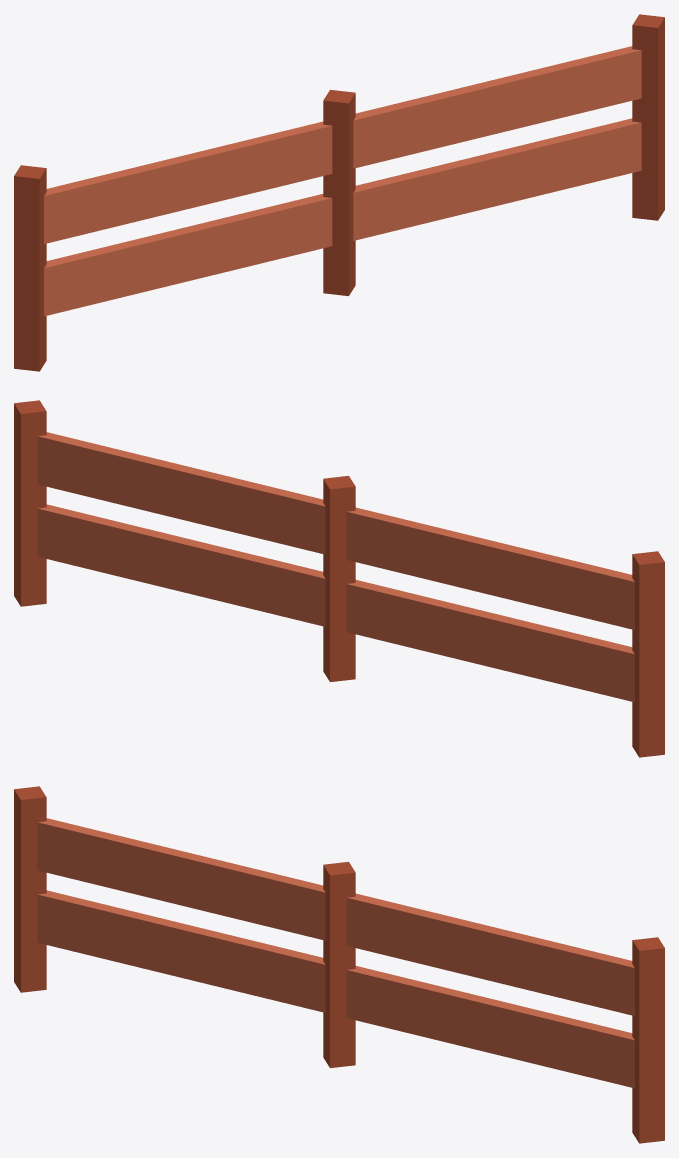
The model's file is Fence.fbx.
3 views of the same model, one above another, from view 1: azimuth 30°, elevation 25°; view 2: azimuth 150°, elevation 25°; view 3: azimuth 330°, elevation 25° (orthographic).
Visible parts, largest first — view 1: fence_classicDiagonal; view 2: fence_classicDiagonal; view 3: fence_classicDiagonal.
Part boxes in pixels (box(x1,y1,x2,y2)): fence_classicDiagonal: box(14, 14, 664, 371); fence_classicDiagonal: box(14, 400, 664, 757); fence_classicDiagonal: box(14, 786, 664, 1143).
Size of the model in its own units: 14.14 by 4 by 0.7071.
